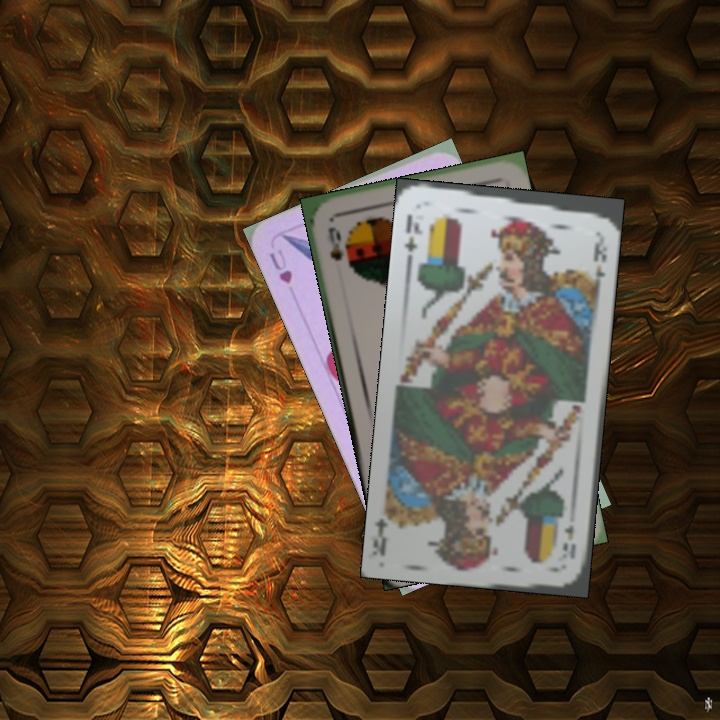EK: (401, 210, 425, 264), (559, 520, 579, 561)
HU: (265, 245, 295, 287)
SO: (324, 223, 347, 264)
